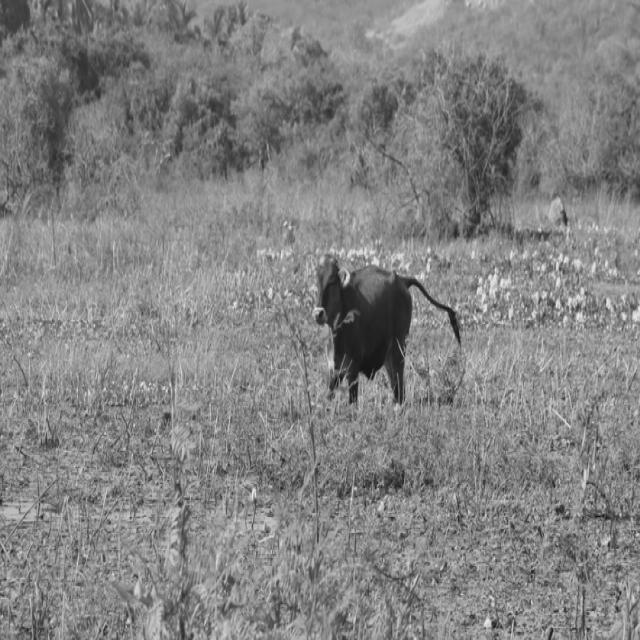cow: (314, 255, 461, 403)
